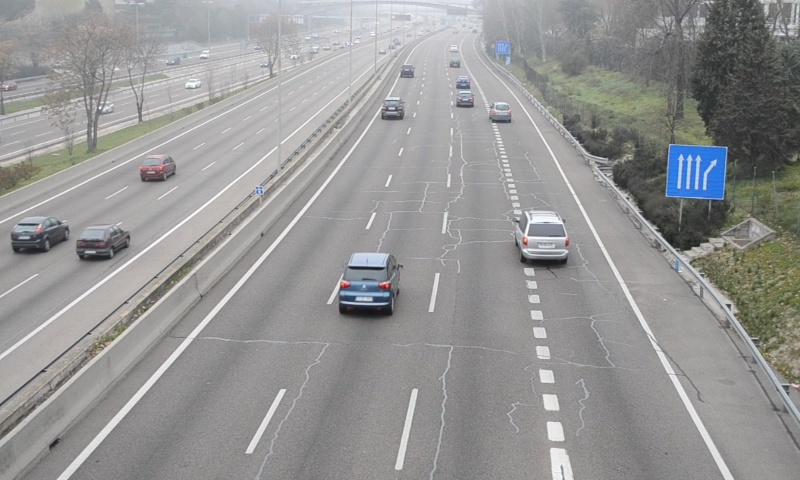car: (338, 253, 400, 309), (515, 210, 570, 259), (381, 96, 404, 120), (489, 100, 512, 122), (456, 90, 474, 108)
